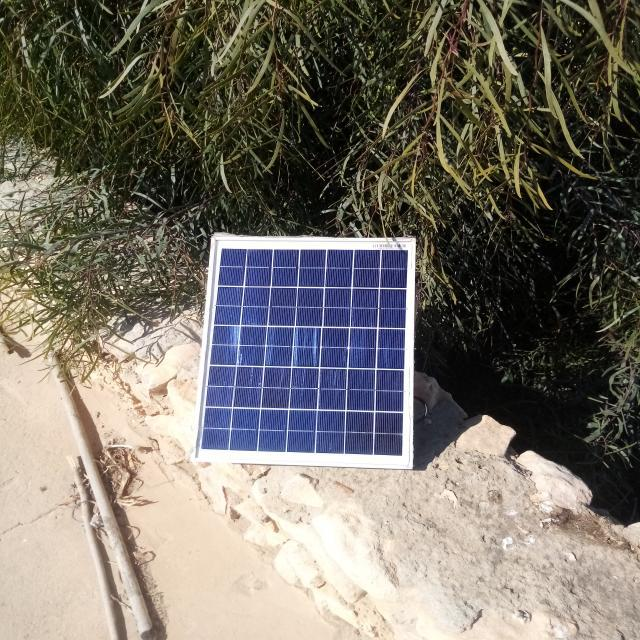no faulty: (194, 238, 414, 468)
